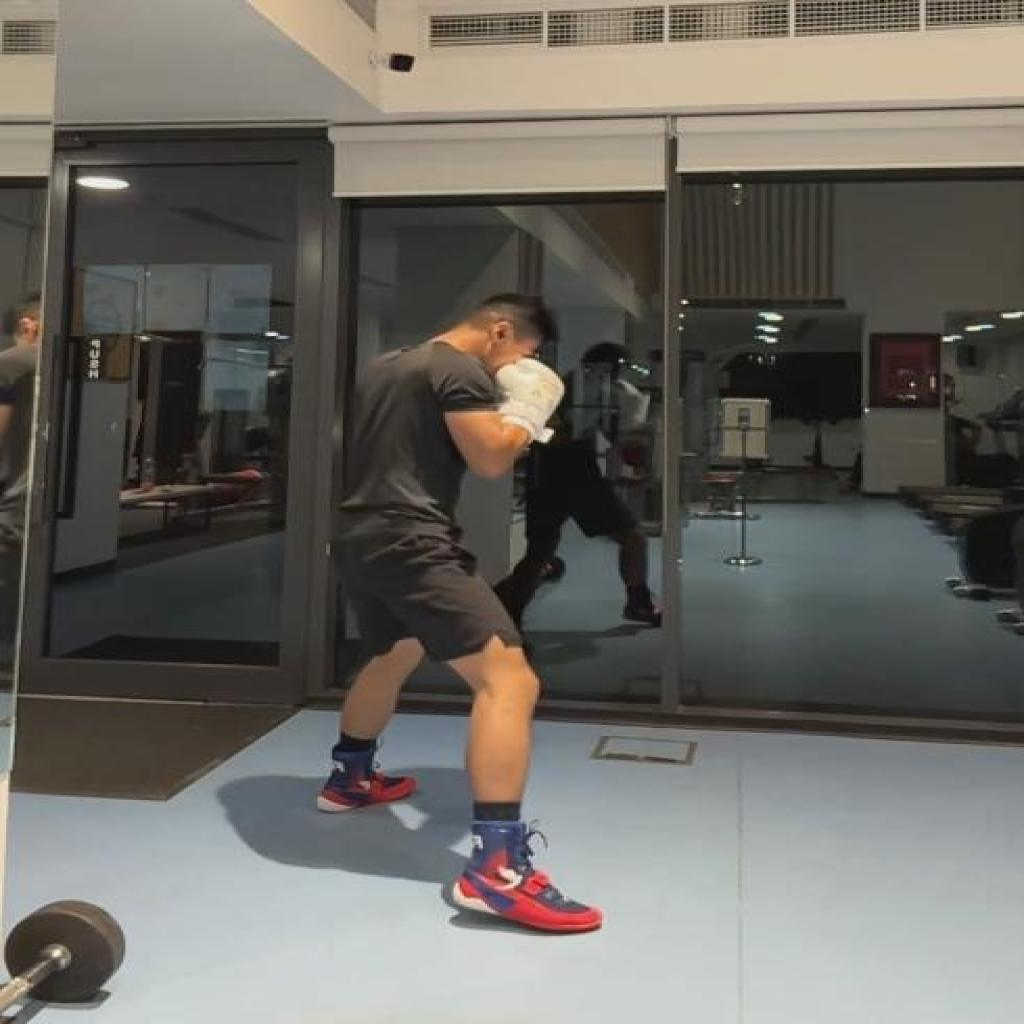no punch: (314, 286, 606, 936)
